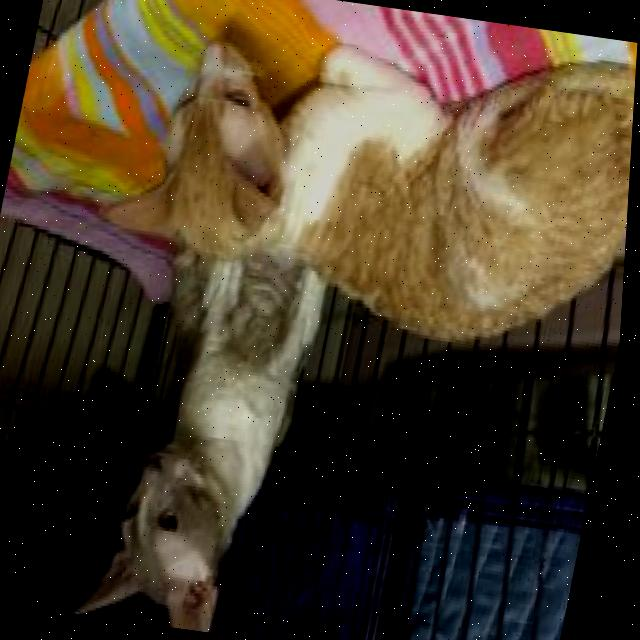Cornish Rex: (76, 0, 640, 371), (67, 238, 338, 640)
